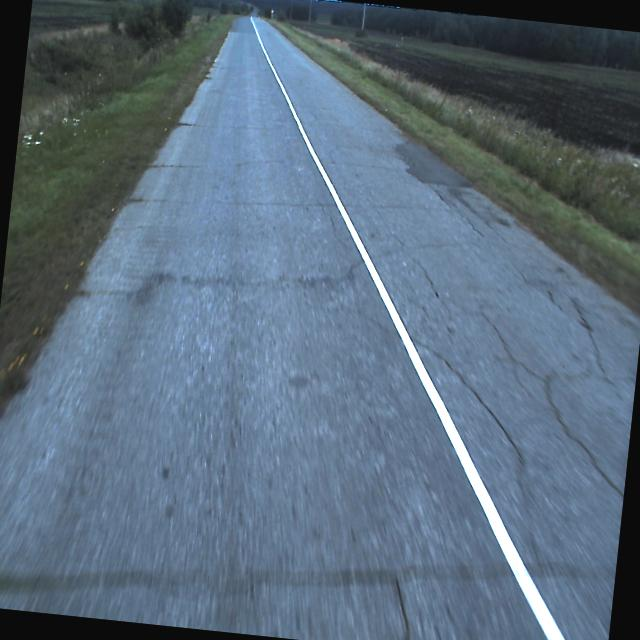road: (0, 16, 640, 640)
